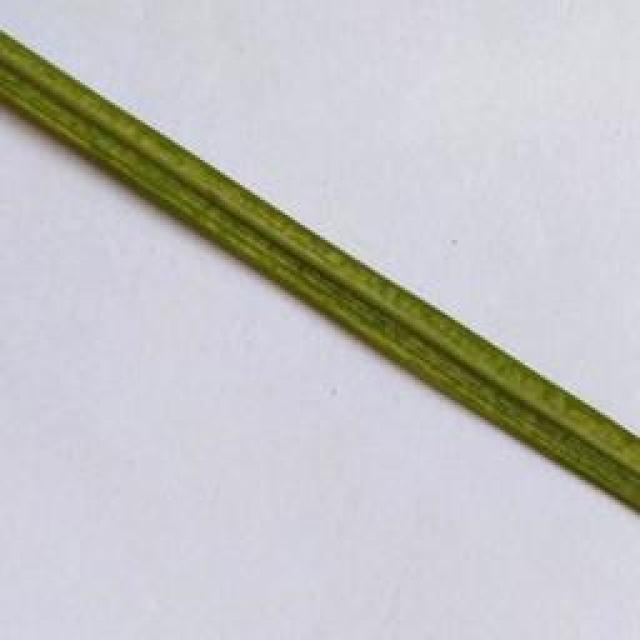Healthy-Plant: (0, 27, 640, 512)
